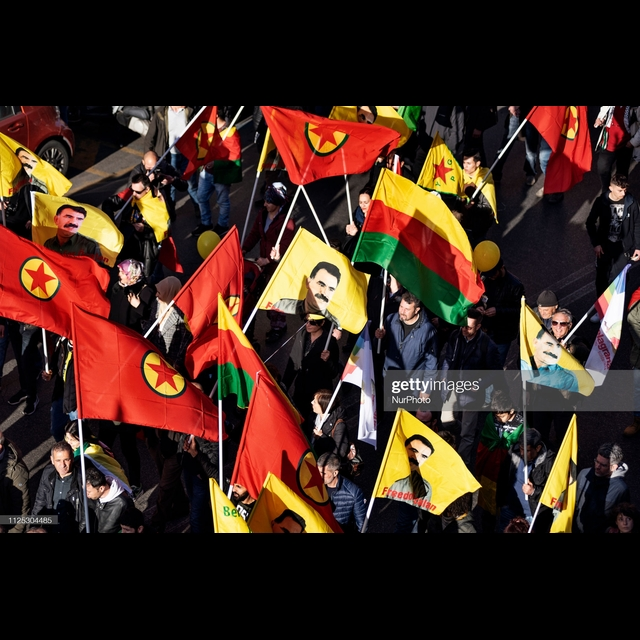APO: (47, 202, 94, 239), (308, 260, 342, 310), (534, 330, 564, 369)
PKK: (137, 348, 190, 403), (12, 252, 64, 302), (304, 121, 356, 155)
